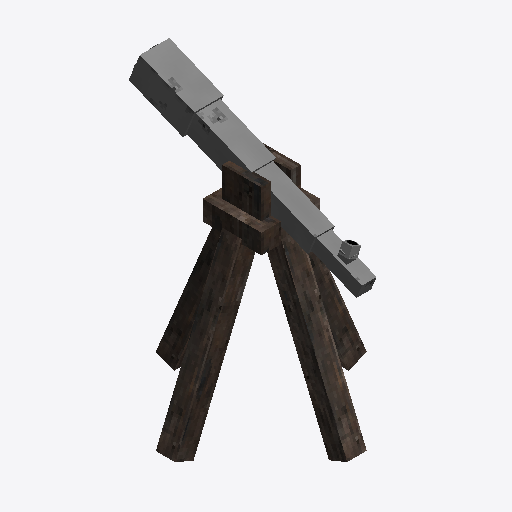
A Minecraft block model of 15 cuboids, rendered isometrically (azimuth 45°, elevation 35.3°) with the resource pack's own textures.
Parts seen in each view (by area): element 3, element 4, element 14, element 13, element 6, element 1, element 5, element 2, element 7, element 9, element 8.
Part boxes in pixels (x1,y1,x2,y2): element 3: (156,228,254,461); element 4: (267,235,366,461); element 14: (129,38,223,136); element 13: (187,99,275,172); element 6: (255,161,334,253); element 1: (156,227,220,370); element 5: (203,188,319,254); element 2: (308,252,366,370); element 7: (222,161,270,220); element 9: (311,229,375,297); element 8: (263,143,300,189).
Bounding box in the file's own units: 19.5 × 26.66 × 23.06.